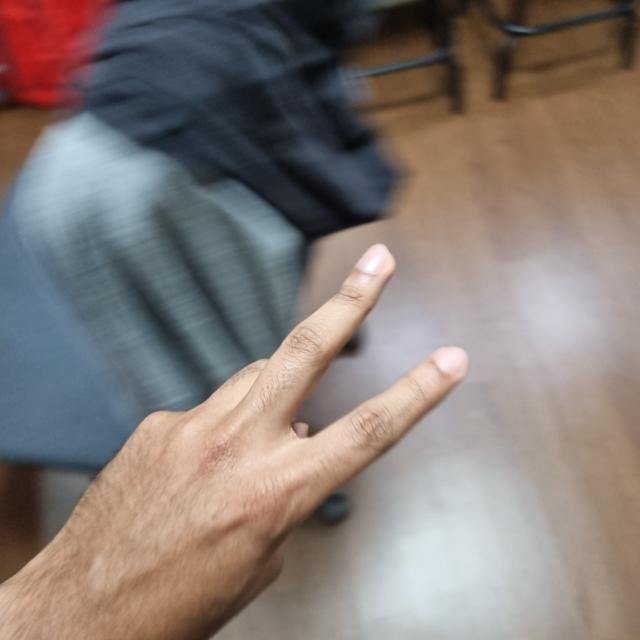Scissors: (2, 255, 459, 638)
